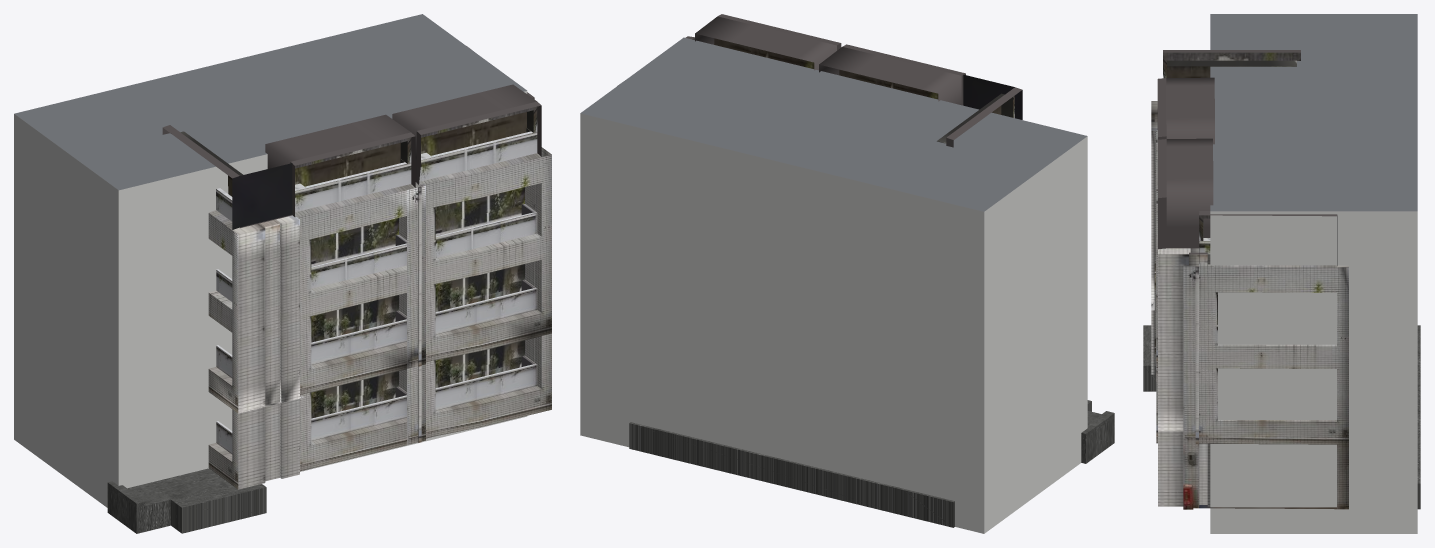
Rendered from bldg_08_white_tile_apt.glb.
The picture shows the model from 3 angles, left to right: view 1: azimuth 30°, elevation 25°; view 2: azimuth 150°, elevation 25°; view 3: azimuth 270°, elevation 25°; orthographic projection.
Parts seen in each view (by area): view 1: WhiteTileBuilding; view 2: WhiteTileBuilding; view 3: WhiteTileBuilding.
Boxes of the visible parts, bbox=[...] form: WhiteTileBuilding: bbox=[14, 14, 551, 533]; WhiteTileBuilding: bbox=[580, 14, 1114, 533]; WhiteTileBuilding: bbox=[1143, 14, 1420, 533].
Bounding box in the file's own units: 13.26 × 10.13 × 7.69.
Materials: 4 (2 with a texture image).
